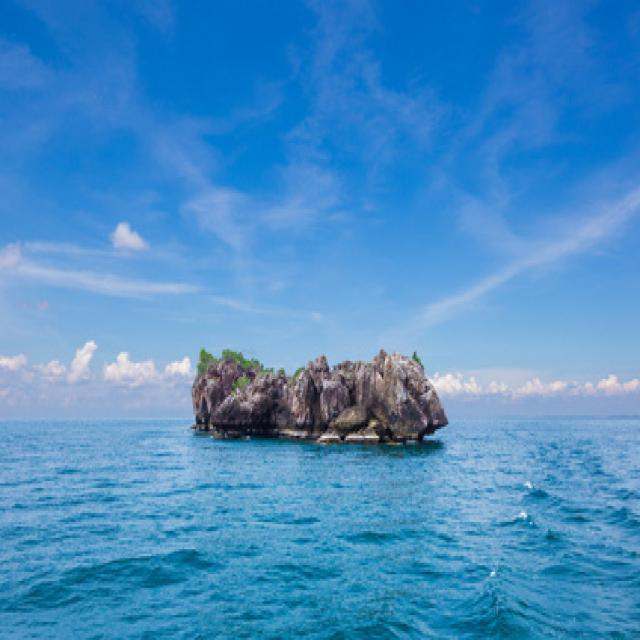island: (178, 321, 442, 447)
